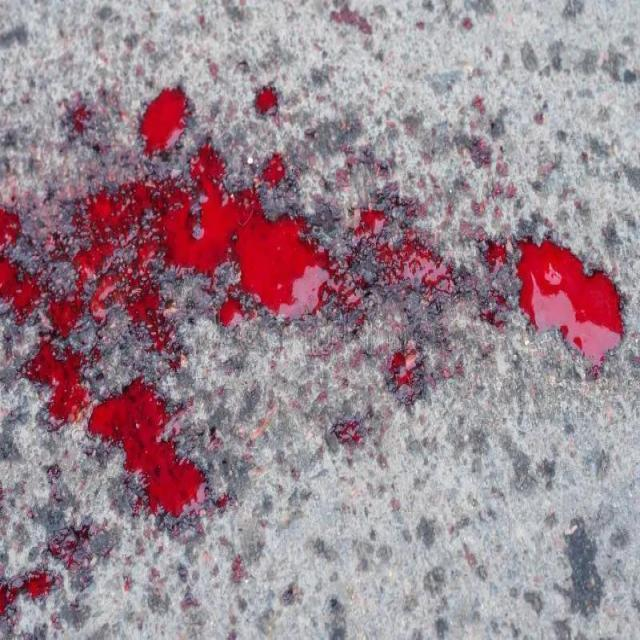flood: (1, 84, 626, 506)
